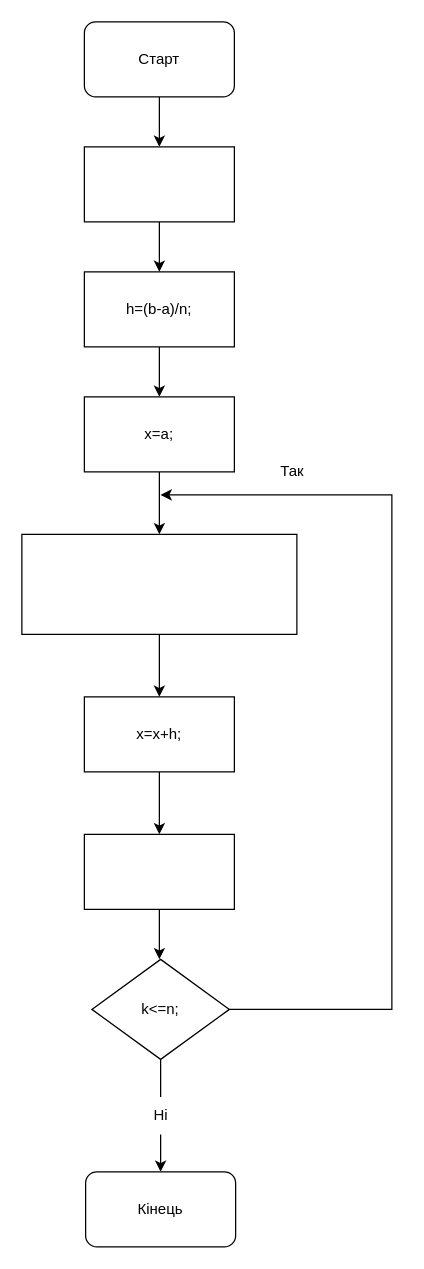
Some shapes in this 424 by 1269 pixel diagram are drawn without their labels. Each missing label, with the centre of its shape:
"i++;" goes at [158,871].
"sum=sum+f(x);" goes at [159,583].
"Оголошення змінних" goes at [158,184].
